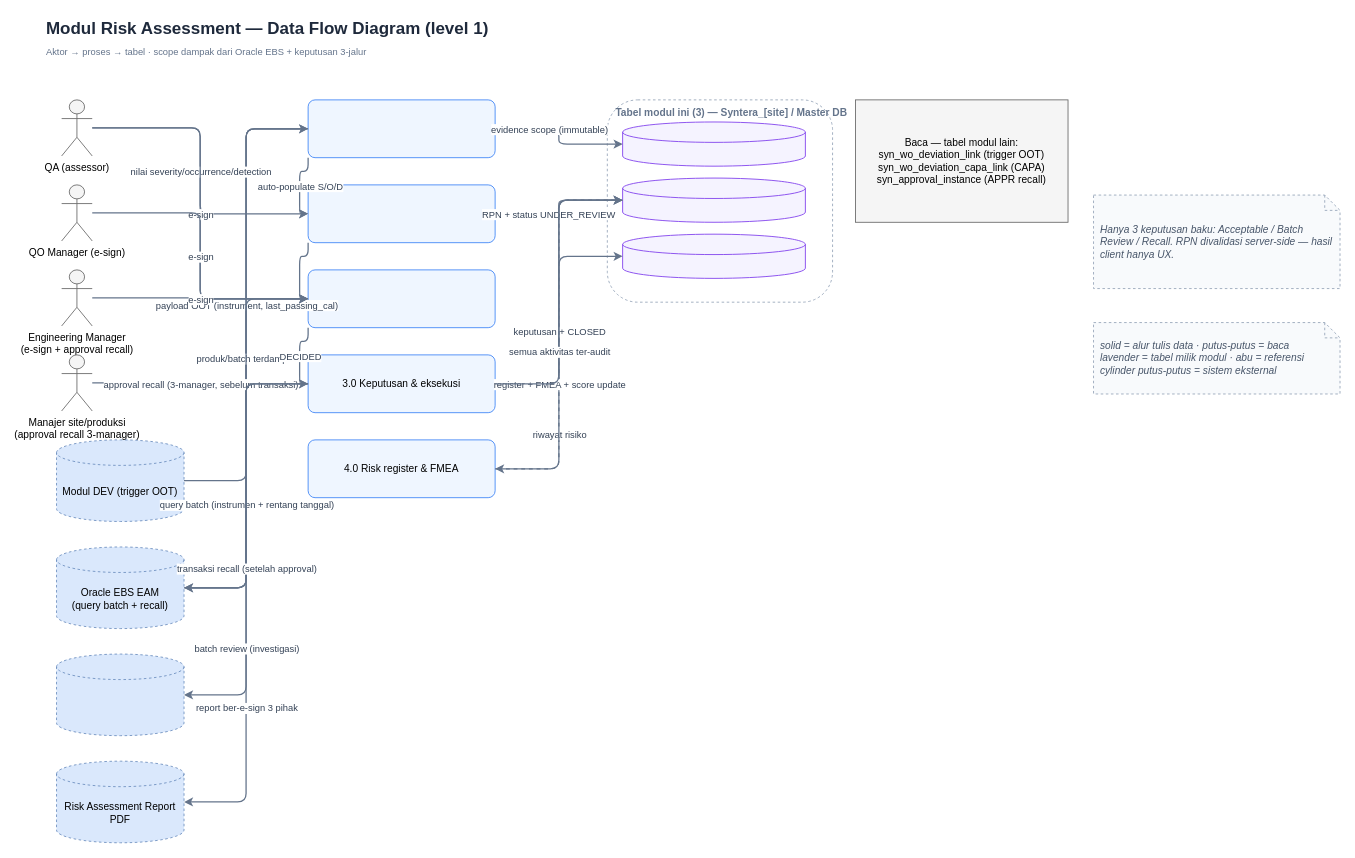
Some shapes in this 1355 by 858 pixel diagram are drawn without their labels. The centre of each missing label's shape, as x and y in pixels:
"0.0 Identifikasi scope dampak (query EBS)" belongs at pixel 401 128.
"1.0 Form S/O/D + hitung RPN" belongs at pixel 401 213.
"2.0 Review & e-sign 3 pihak" belongs at pixel 401 298.
"audit_logs" belongs at pixel 713 255.
"QMS (investigasi batch)" belongs at pixel 120 694.
"syn_impacted_product_log" belongs at pixel 713 143.
"syn_risk_assessment" belongs at pixel 713 199.
